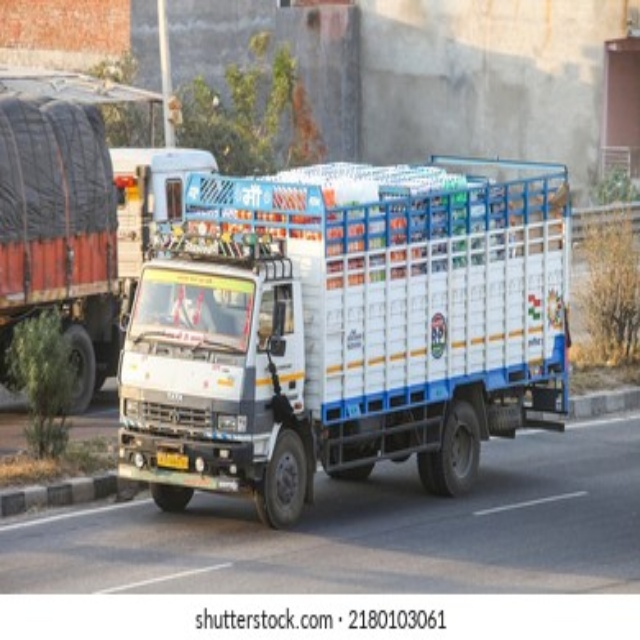Truck: (110, 153, 569, 530), (2, 89, 220, 418)
